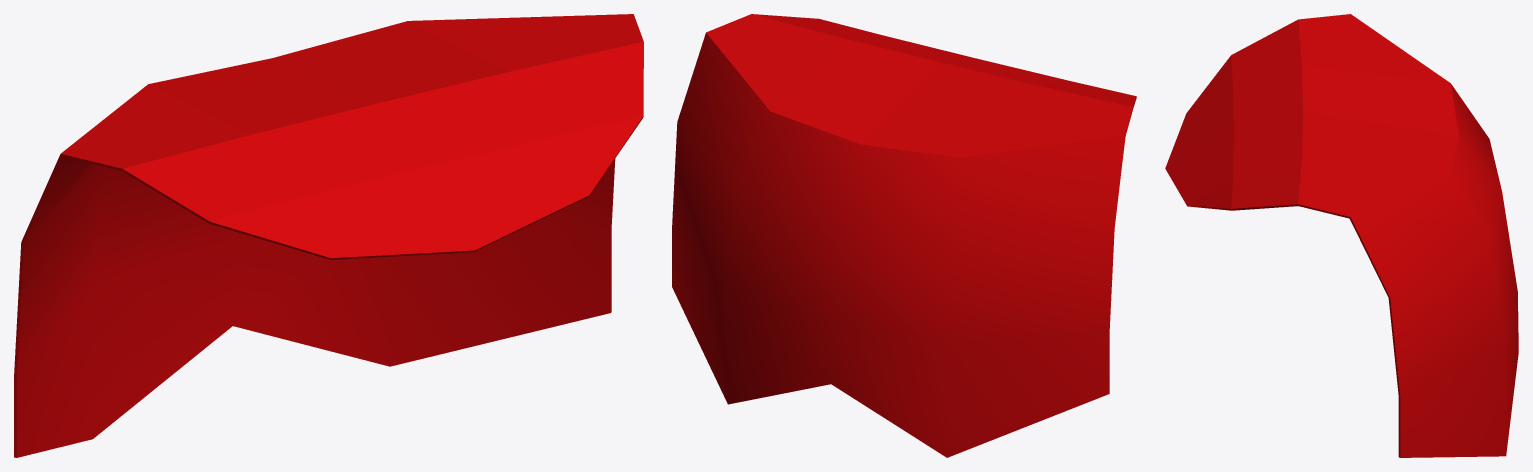
The model's file is vampire cape.fbx.
The picture shows the model from 3 angles, left to right: view 1: azimuth 30°, elevation 25°; view 2: azimuth 150°, elevation 25°; view 3: azimuth 270°, elevation 25°; orthographic projection. The views are drawn at different scales.
Parts seen in each view (by area): view 1: Plane002; view 2: Plane002; view 3: Plane002.
Boxes of the visible parts, <box> form: Plane002: <box>14,14,643,457</box>; Plane002: <box>672,14,1136,457</box>; Plane002: <box>1165,14,1518,457</box>.
Size of the model in its own units: 6.95 by 4.47 by 4.91.
1 material, 1 textured.
